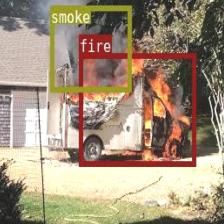fire: (78, 52, 195, 166)
smoke: (50, 4, 130, 90)
